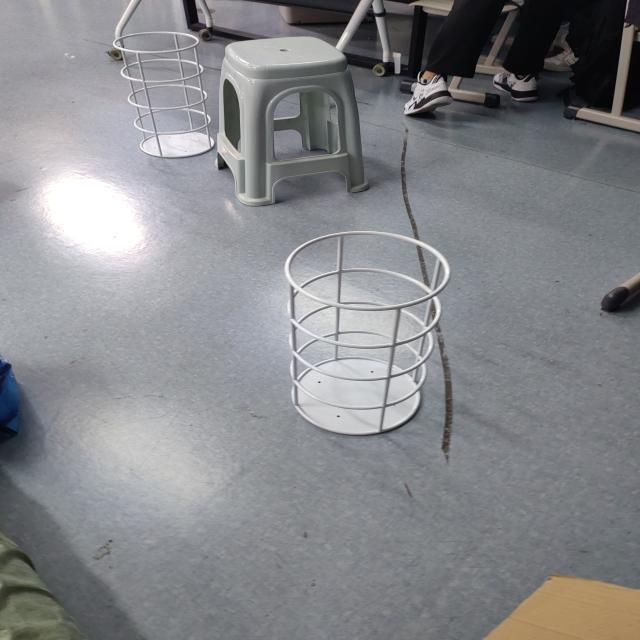S: (283, 228, 457, 440), (112, 30, 218, 156)
